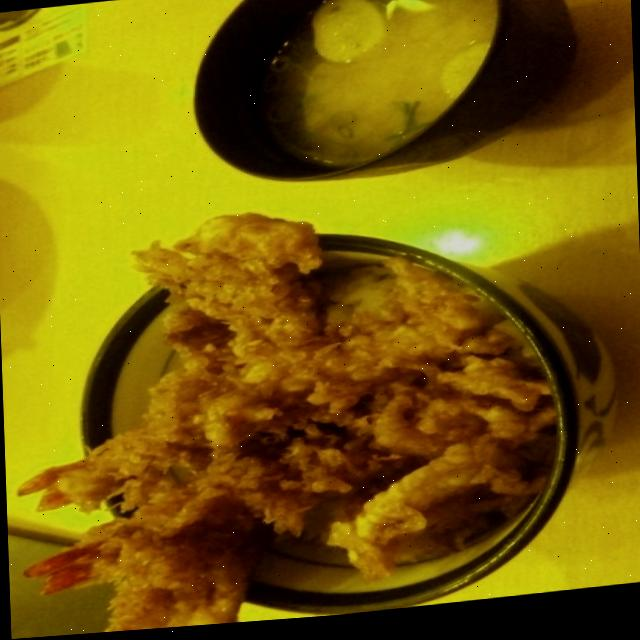汤锅炖物: (193, 0, 522, 198)
熟制海鲜: (65, 222, 565, 616)
